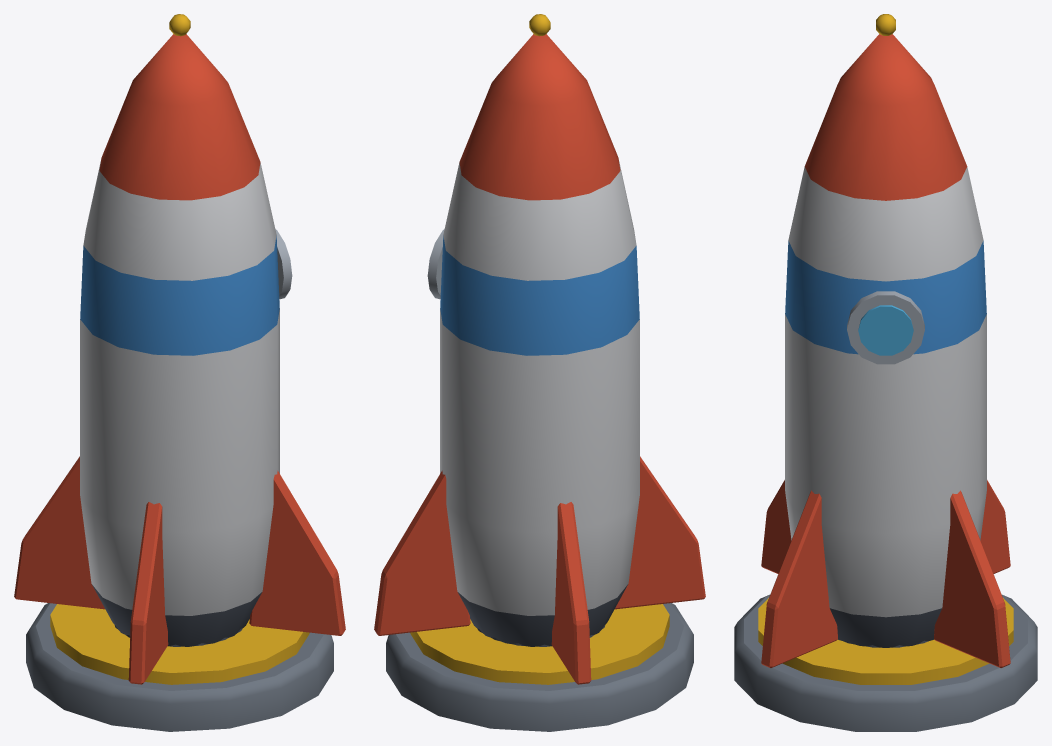
The model's file is toy-deco3.glb.
3 renders of one model, left to right at view 1: azimuth 30°, elevation 25°; view 2: azimuth 150°, elevation 25°; view 3: azimuth 270°, elevation 25°, orthographic.
Visible parts, largest first — view 1: toy-deco3; view 2: toy-deco3; view 3: toy-deco3.
Part boxes in pixels (box(x1,y1,x2,y2)): toy-deco3: box(14, 14, 345, 731); toy-deco3: box(374, 14, 705, 731); toy-deco3: box(734, 14, 1037, 731).
Bounding box in the file's own units: 1.86 × 4.43 × 1.86.
